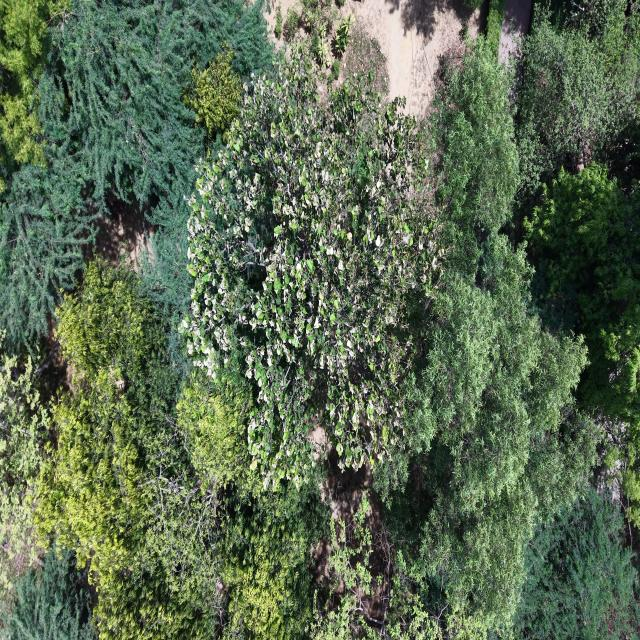DRY_AREA: (340, 0, 481, 116), (340, 0, 480, 116), (344, 0, 479, 115), (86, 196, 153, 268), (94, 214, 153, 267), (499, 0, 532, 62)
VEGETATION_TREE: (0, 0, 639, 639), (184, 40, 600, 629), (378, 40, 600, 629), (183, 54, 442, 486), (36, 263, 326, 638), (0, 0, 270, 349), (390, 243, 598, 626), (36, 262, 206, 638), (516, 0, 639, 519), (150, 372, 328, 638), (526, 164, 639, 522), (526, 164, 639, 419), (516, 0, 639, 207), (0, 146, 97, 356), (433, 40, 518, 277), (310, 493, 441, 639), (514, 490, 638, 639), (220, 477, 330, 638), (0, 0, 67, 191), (0, 356, 50, 610), (0, 548, 96, 639), (283, 0, 355, 89), (184, 48, 241, 140), (343, 26, 389, 96), (604, 119, 639, 194), (283, 0, 338, 44), (299, 0, 338, 39), (283, 7, 319, 43), (487, 0, 505, 56), (334, 14, 354, 58), (312, 37, 329, 68), (328, 59, 340, 83), (274, 5, 282, 39), (464, 0, 481, 8), (336, 0, 345, 7)
